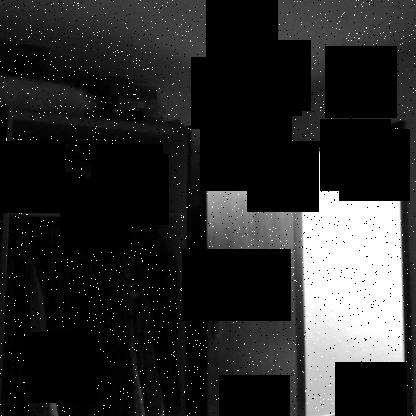Porte: (193, 121, 416, 415)
